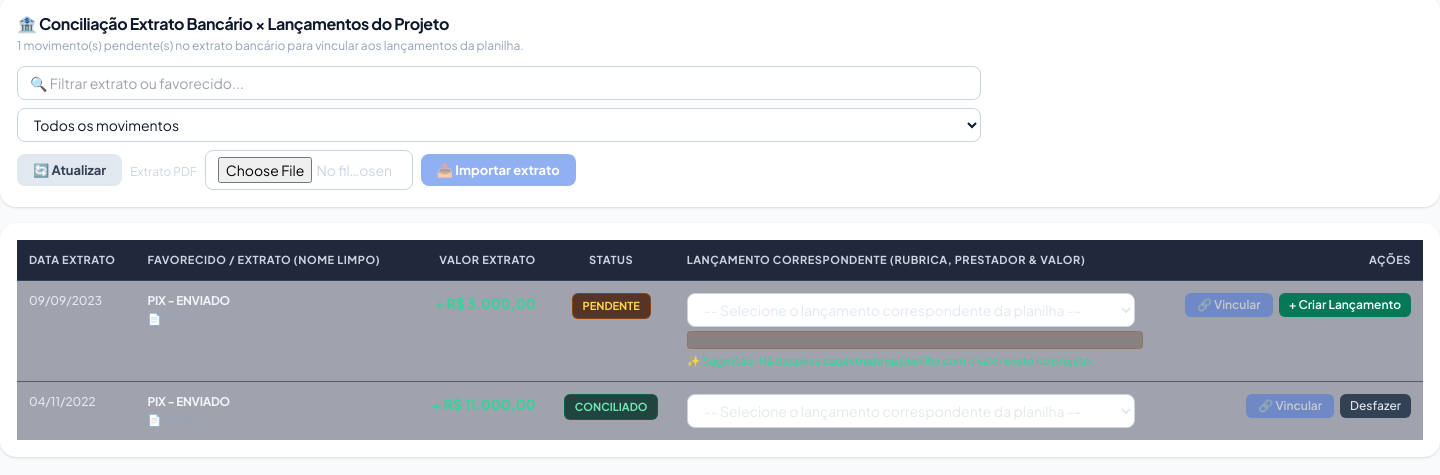
Test: ConciliacaoManual › filtro "Apenas pendentes" esconde os já conciliados
This screenshot has width=1440, height=475.
Expected: the text "CONCILIADO" is shown, x1=564 y1=394 x2=658 y2=420
# primeiro combobox visível é o de filtro de status
Select "Apenas pendentes" in the 1st dropdown at (499, 125), box x1=17 y1=108 x2=981 y2=142
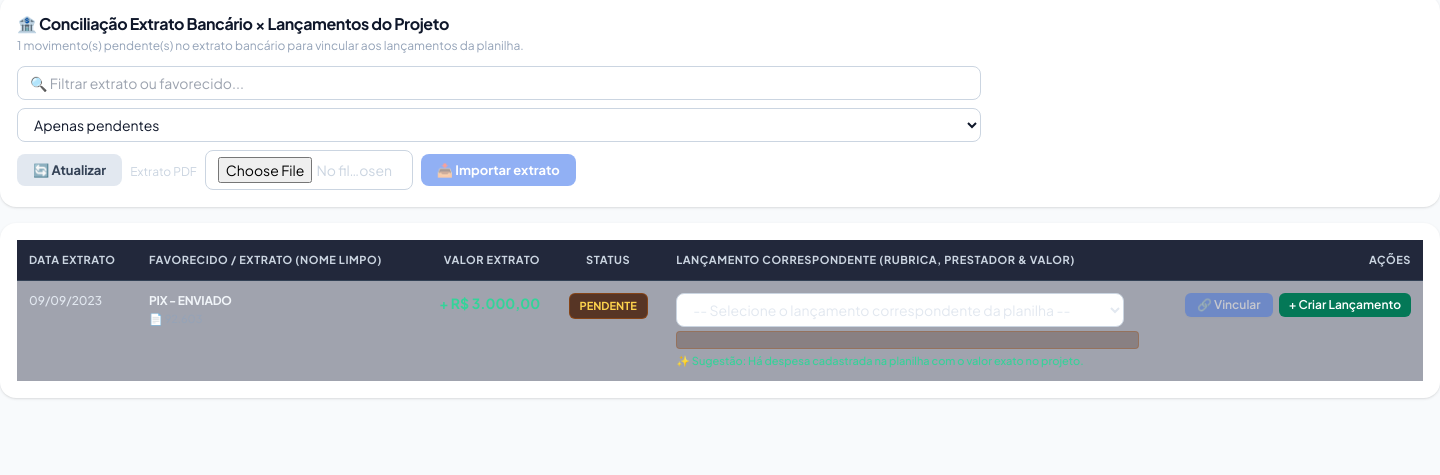
Result: the text "CONCILIADO" is gone
